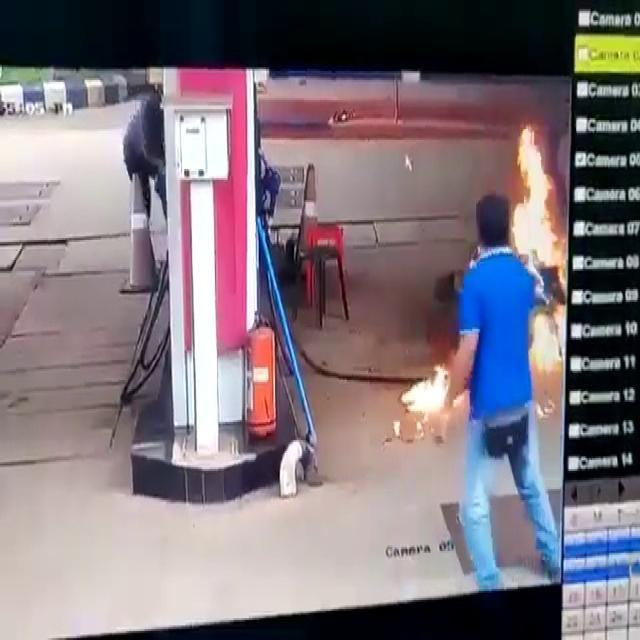Fire: (493, 122, 559, 273), (398, 362, 452, 422)
